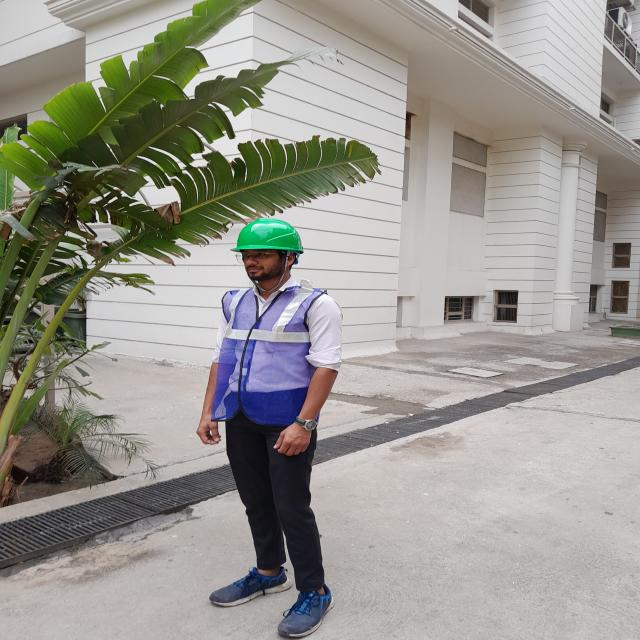safe: (210, 218, 339, 640)
